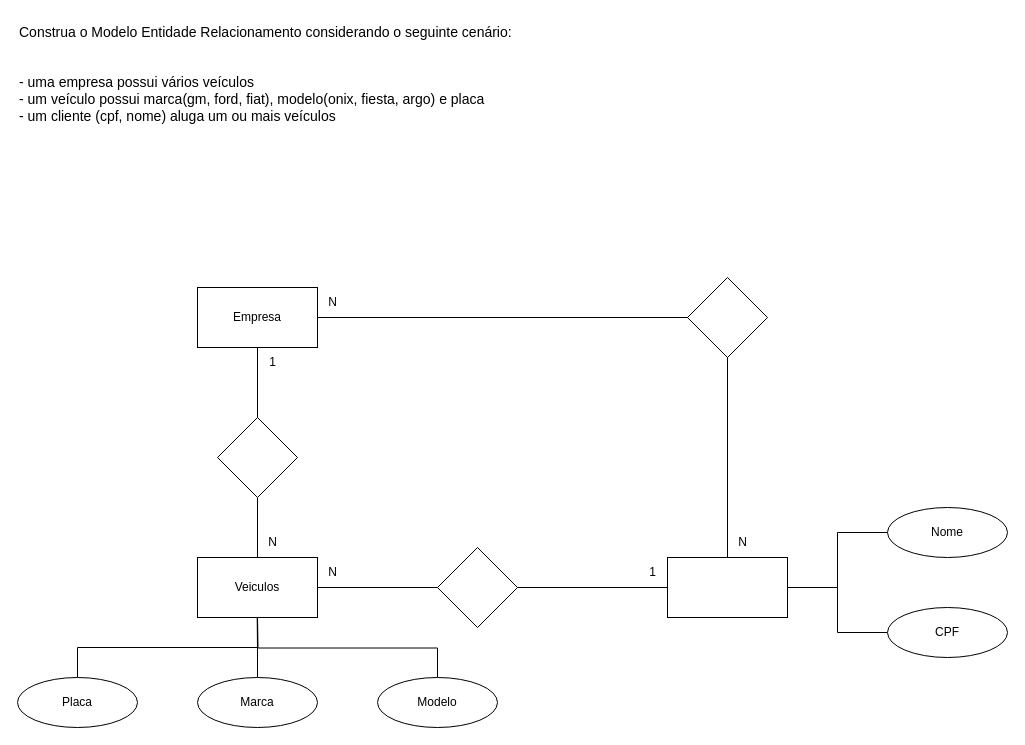
Image size: 1025x745. Some labels were removed from this diagram. Each missing label, with the centre of its shape:
"Aluga" belongs at (477,587).
"Cliente" belongs at (727,587).
"Contato" belongs at (727,317).
"Possui" belongs at (257,457).
